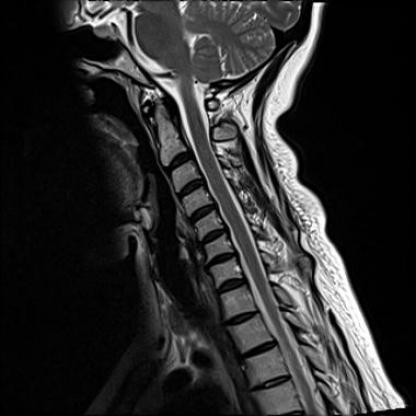Disc Bulgerotation: (187, 205, 218, 221), (205, 253, 237, 267), (198, 230, 228, 243)
